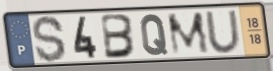4: (72, 14, 99, 60)
B: (99, 13, 138, 61)
M: (165, 10, 212, 57)
Q: (139, 12, 170, 57)
S: (31, 14, 69, 64)
U: (203, 8, 244, 55)
